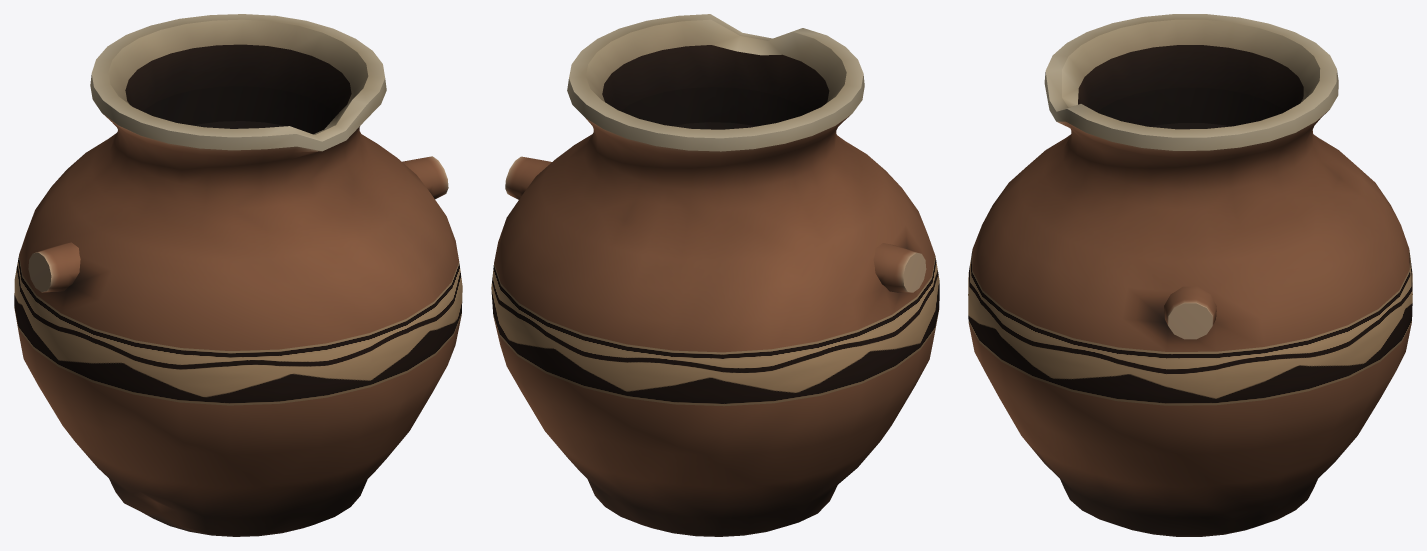
Rendered from clay_pot.fbx.
3 views of the same model, side by side, from view 1: azimuth 30°, elevation 25°; view 2: azimuth 150°, elevation 25°; view 3: azimuth 270°, elevation 25° (orthographic).
Visible parts, largest first — view 1: clay_pot_Body; view 2: clay_pot_Body; view 3: clay_pot_Body.
Part boxes in pixels (x1,y1,x2,y2): clay_pot_Body: [14, 14, 462, 536]; clay_pot_Body: [491, 14, 939, 536]; clay_pot_Body: [968, 14, 1412, 536].
Size of the model in its own units: 0.1813 by 0.1806 by 0.1745.
1 material, 1 textured.
